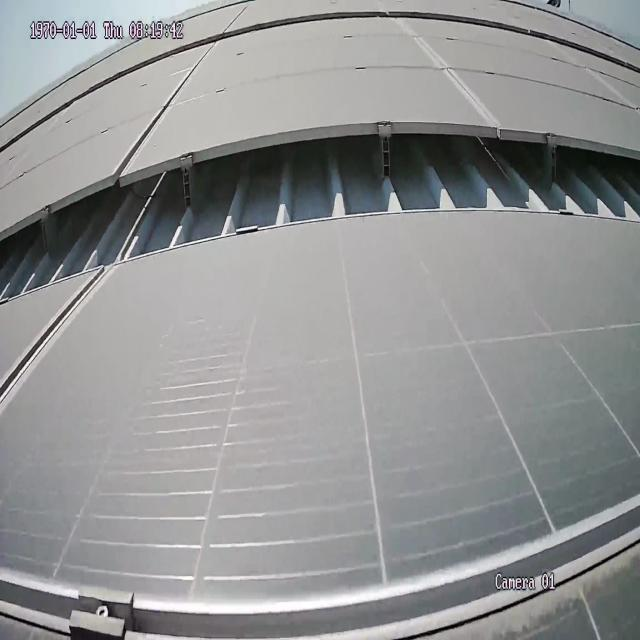interior panel: (0, 485, 633, 640), (2, 286, 98, 399), (127, 53, 203, 164), (401, 26, 489, 113)
outher panel: (1, 125, 640, 307)
